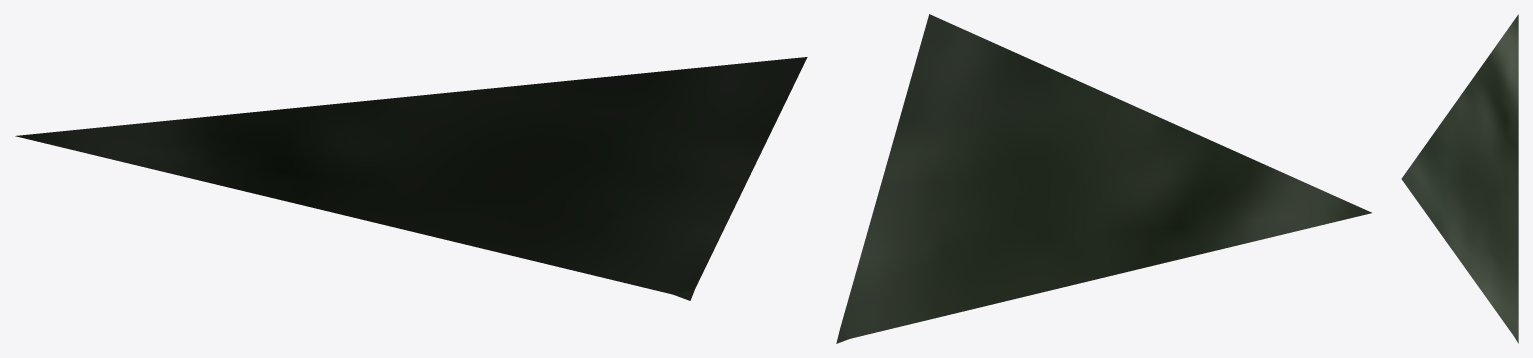
3 renders of one model, left to right at view 1: azimuth 30°, elevation 25°; view 2: azimuth 150°, elevation 25°; view 3: azimuth 270°, elevation 25°, orthographic. The views are drawn at different scales.
Bounding box in the file's own units: 0.4153 × 0.1937 × 0.1248.
1 material, 1 textured.
